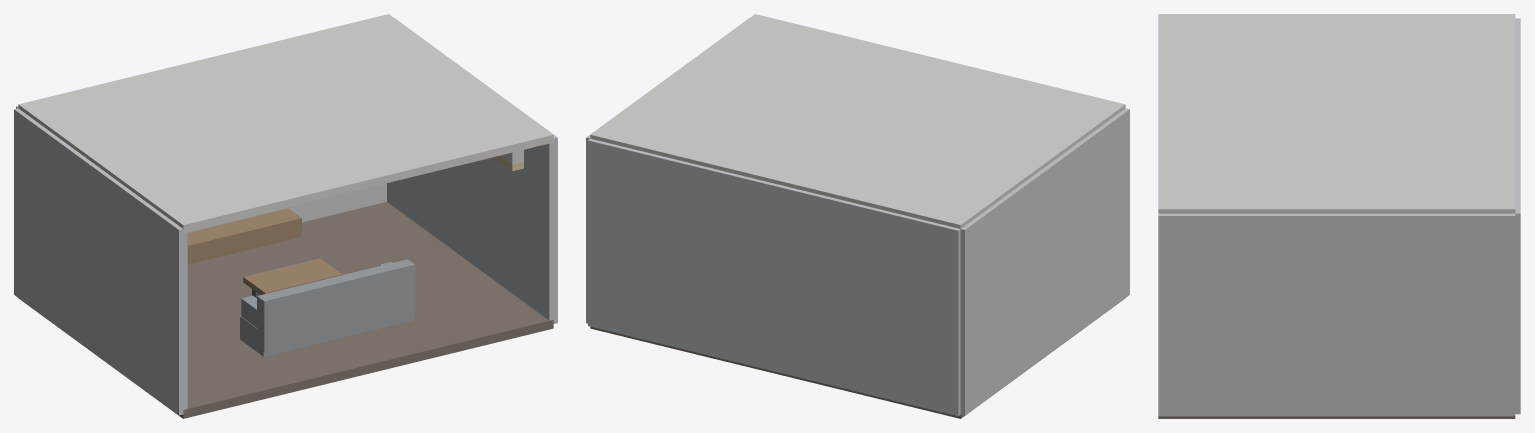
Rendered from molduras-acabamentos.glb.
3 views of the same model, side by side, from view 1: azimuth 30°, elevation 25°; view 2: azimuth 150°, elevation 25°; view 3: azimuth 270°, elevation 25° (orthographic). The views are drawn at different scales.
Visible parts, largest first — view 1: molduras-acabamentos_001, molduras-acabamentos_000, molduras-acabamentos_003, molduras-acabamentos_004, molduras-acabamentos_006, molduras-acabamentos_014, molduras-acabamentos_002, molduras-acabamentos_009, molduras-acabamentos_005; view 2: molduras-acabamentos_002, molduras-acabamentos_001, molduras-acabamentos_003, molduras-acabamentos_000, molduras-acabamentos_004; view 3: molduras-acabamentos_004, molduras-acabamentos_001, molduras-acabamentos_002, molduras-acabamentos_000.
Boxes of the visible parts, bbox=[...] form: molduras-acabamentos_001: bbox=[18, 14, 553, 232]; molduras-acabamentos_000: bbox=[18, 202, 553, 418]; molduras-acabamentos_003: bbox=[14, 108, 187, 415]; molduras-acabamentos_004: bbox=[387, 17, 557, 323]; molduras-acabamentos_006: bbox=[257, 259, 415, 352]; molduras-acabamentos_014: bbox=[187, 208, 301, 264]; molduras-acabamentos_002: bbox=[16, 106, 386, 232]; molduras-acabamentos_009: bbox=[243, 258, 341, 294]; molduras-acabamentos_005: bbox=[240, 315, 414, 356]; molduras-acabamentos_002: bbox=[588, 138, 960, 416]; molduras-acabamentos_001: bbox=[590, 14, 1125, 228]; molduras-acabamentos_003: bbox=[960, 108, 1129, 415]; molduras-acabamentos_000: bbox=[590, 298, 1125, 418]; molduras-acabamentos_004: bbox=[586, 17, 750, 323]; molduras-acabamentos_004: bbox=[1158, 213, 1515, 416]; molduras-acabamentos_001: bbox=[1158, 14, 1515, 213]; molduras-acabamentos_002: bbox=[1515, 18, 1520, 414]; molduras-acabamentos_000: bbox=[1158, 416, 1515, 418].
Bounding box in the file's own units: 7.16 × 3.5 × 5.48.
